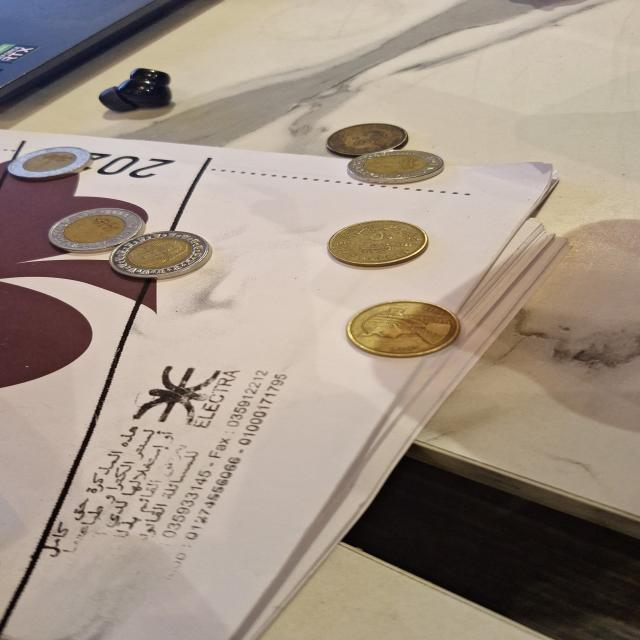Half Pound: (343, 300, 472, 362), (322, 217, 427, 272), (325, 121, 411, 158)
One Pound: (112, 228, 220, 283), (338, 143, 451, 192), (48, 204, 144, 252), (8, 142, 96, 186)
